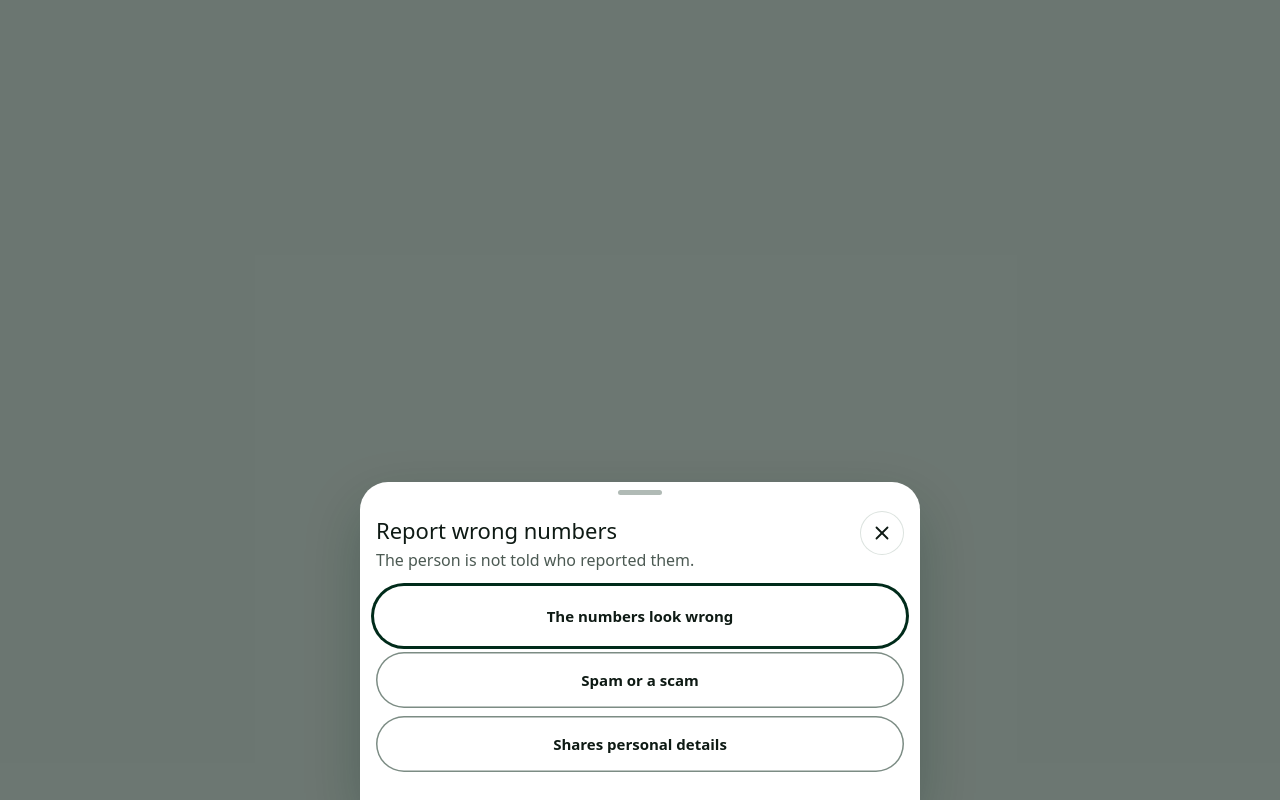
Test: ReportSheet › shows the server's own-post message on a 422
Click the button "Spam or a scam" at (640, 680), box [376,652,904,708]
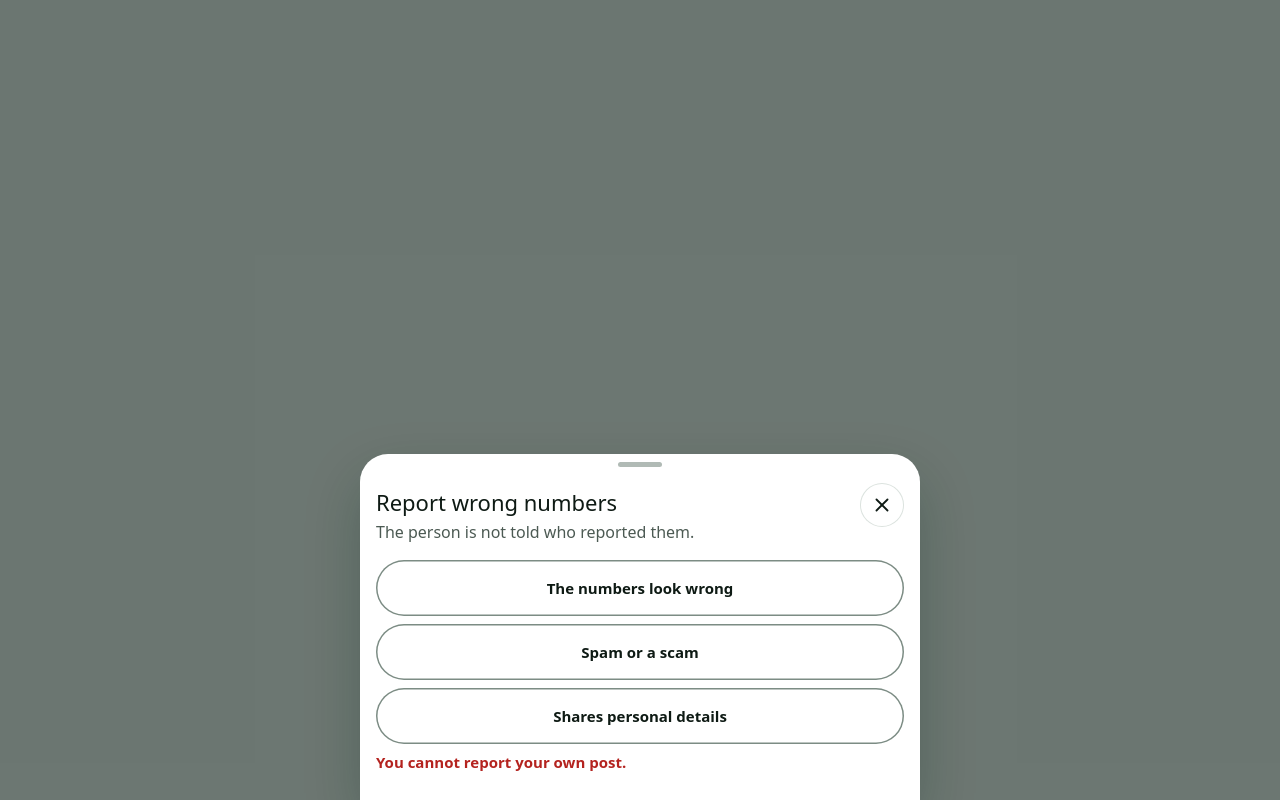
Expected: the button "Spam or a scam" is enabled, [376,624,904,680]
Result: the message reads "You cannot report your own post." at [376,752,626,772]
